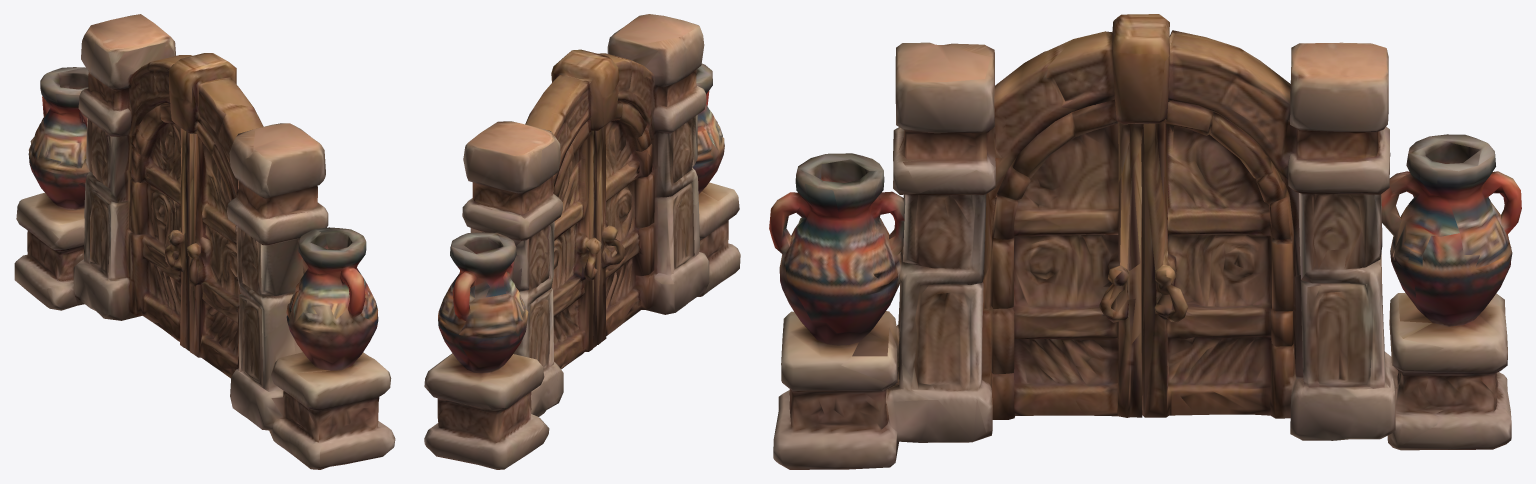
The model's file is c11_portao_entalhado.glb.
3 renders of one model, left to right at view 1: azimuth 30°, elevation 25°; view 2: azimuth 150°, elevation 25°; view 3: azimuth 270°, elevation 25°, orthographic. The views are drawn at different scales.
Visible parts, largest first — view 1: c11_portao_entalhado; view 2: c11_portao_entalhado; view 3: c11_portao_entalhado.
Boxes of the visible parts, x1,y1,x2,y2 form: c11_portao_entalhado: (14, 14, 395, 469); c11_portao_entalhado: (424, 14, 740, 469); c11_portao_entalhado: (769, 14, 1521, 469).
Bounding box in the file's own units: 1.04 × 2.65 × 4.43.
Materials: 1 (1 with a texture image).
